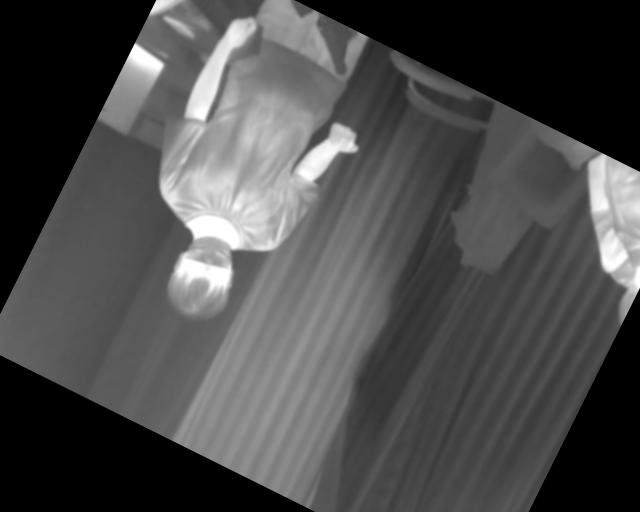face: (155, 223, 252, 330)
